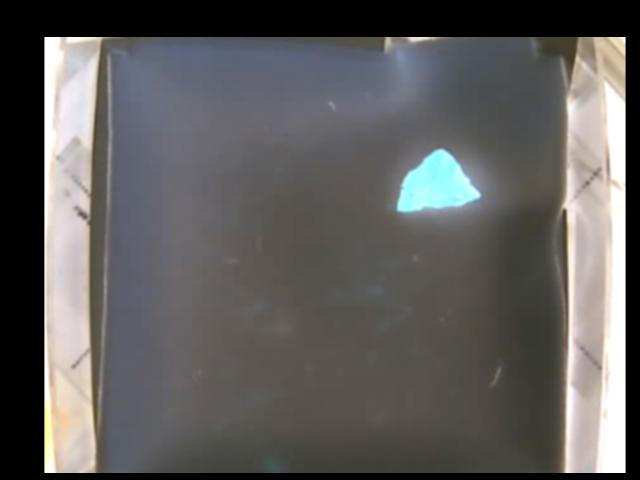Brisk: (394, 145, 480, 213)
